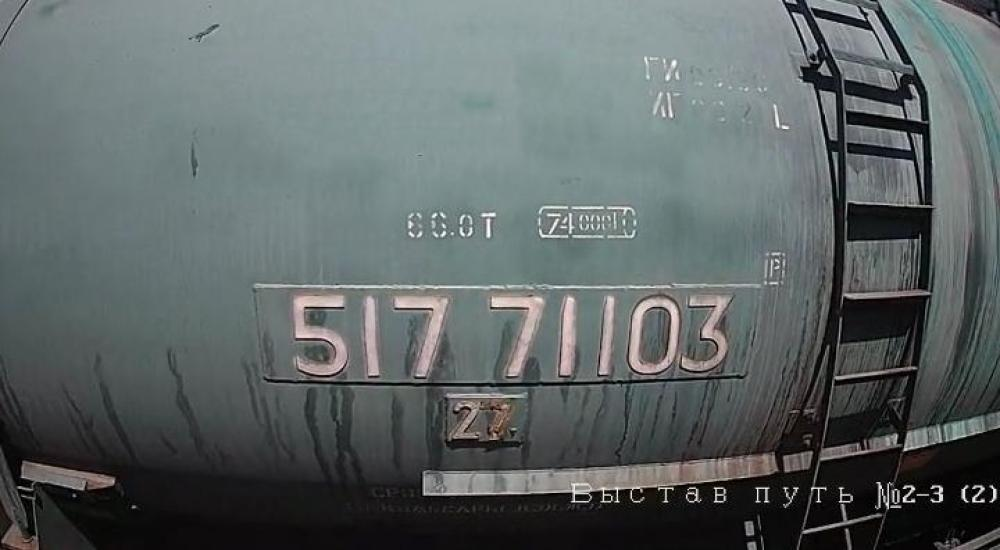Wagon-number: (268, 287, 749, 385)
